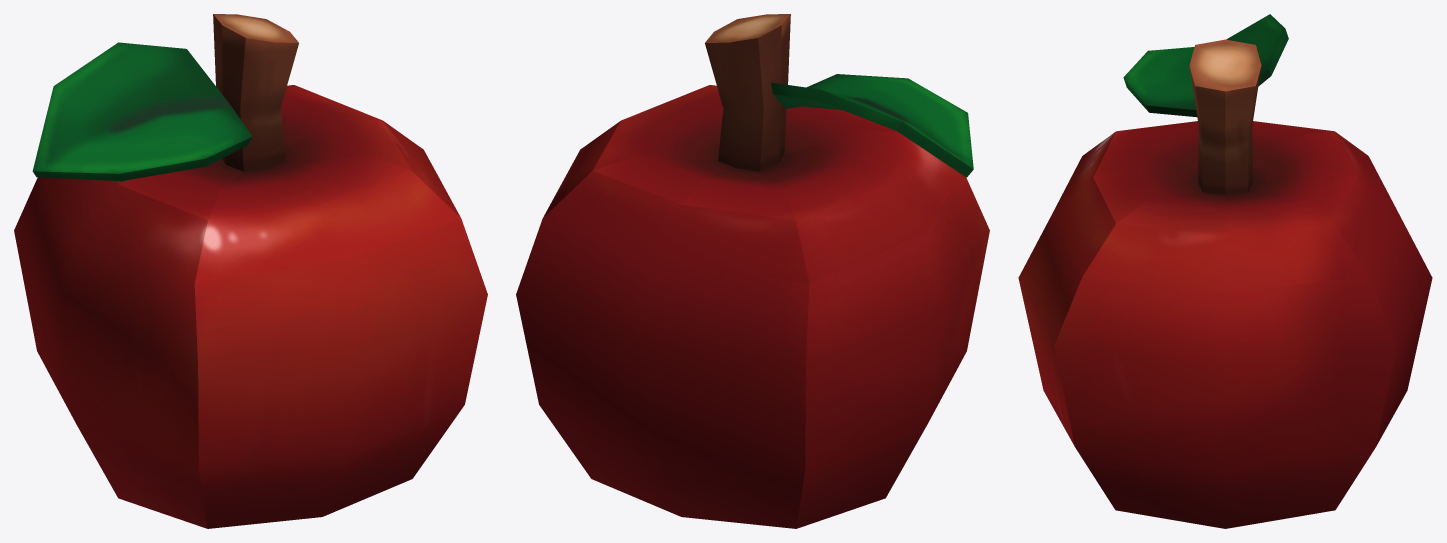
The model's file is apple.fbx.
The picture shows the model from 3 angles, left to right: view 1: azimuth 30°, elevation 25°; view 2: azimuth 150°, elevation 25°; view 3: azimuth 270°, elevation 25°; orthographic projection. The views are drawn at different scales.
Visible parts, largest first — view 1: Apple1; view 2: Apple1; view 3: Apple1.
Part boxes in pixels (bbox=[...]): Apple1: bbox=[14, 14, 487, 528]; Apple1: bbox=[516, 14, 989, 528]; Apple1: bbox=[1018, 14, 1432, 528].
Size of the model in its own units: 1.02 by 1.11 by 0.9517.
